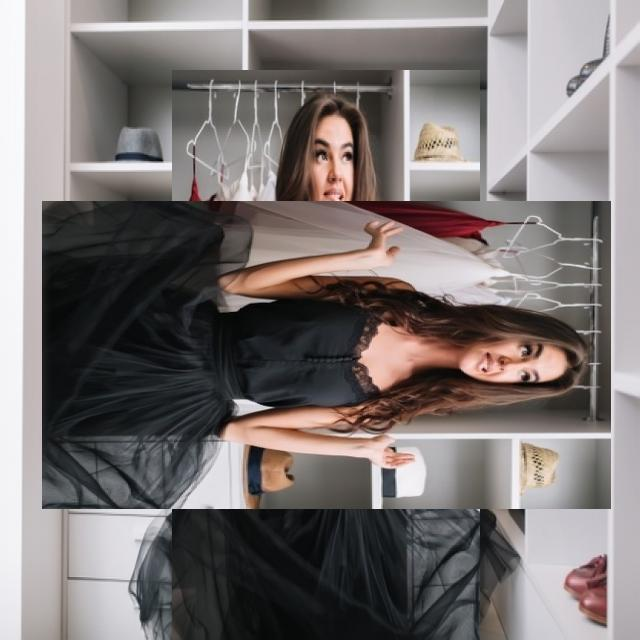NotFall: (65, 213, 632, 500)
